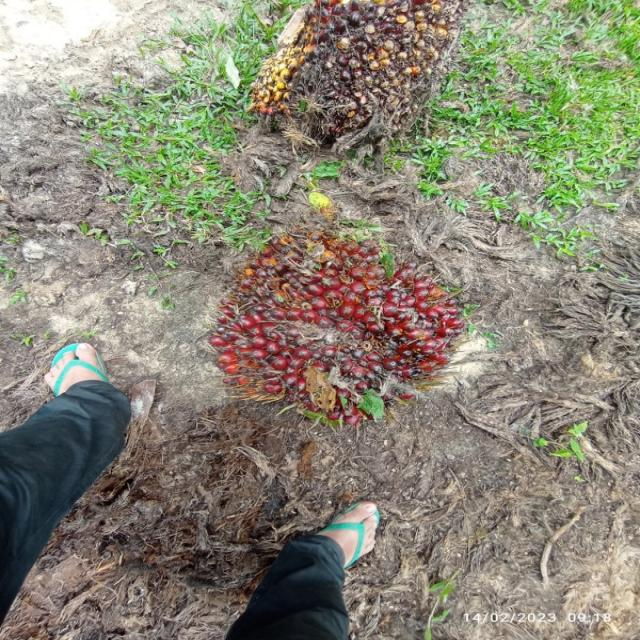fraksi 00: (250, 0, 464, 139)
fraksi 1: (208, 234, 462, 409)
